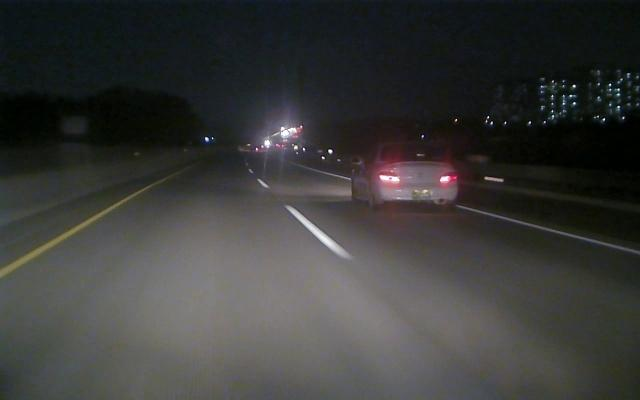lane: (319, 170, 639, 256), (2, 188, 147, 277), (255, 178, 354, 259)
